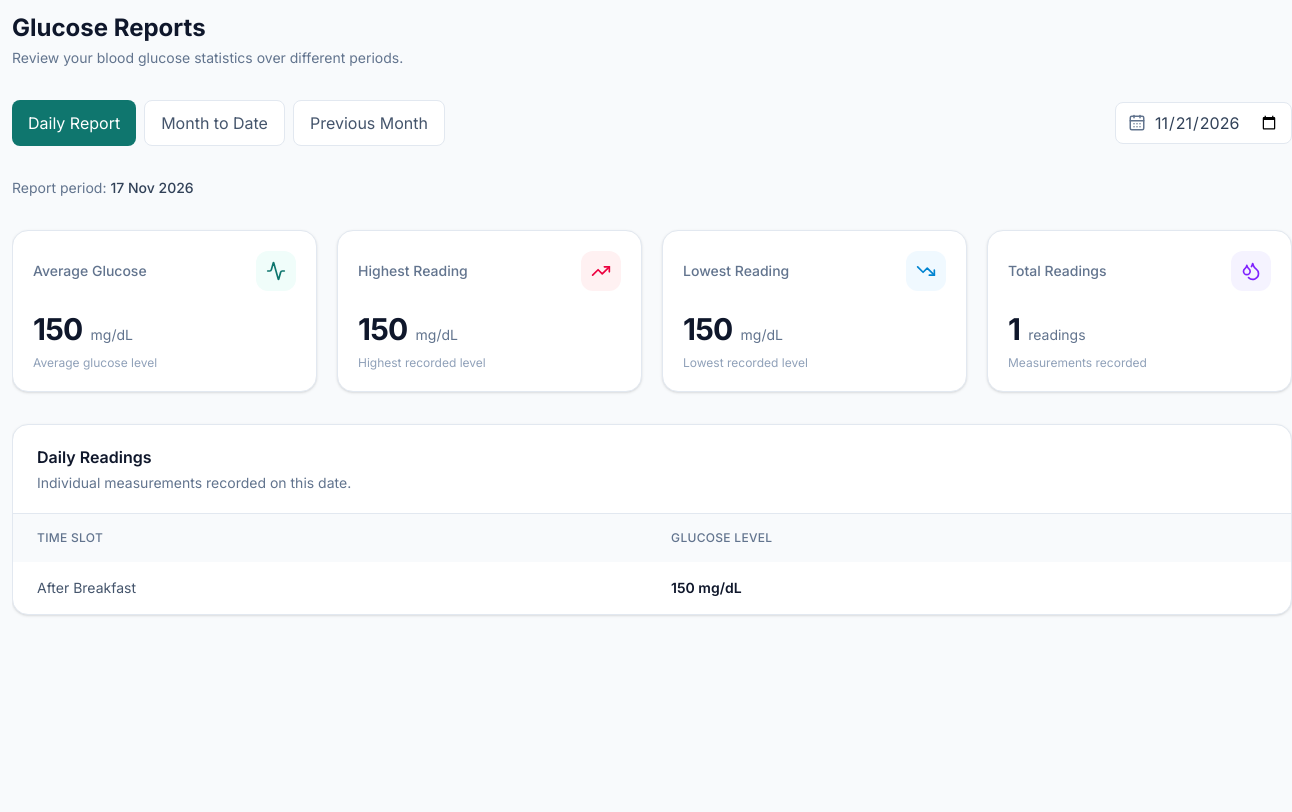
Test: ReportsPage › loads the previous-month report when selected
This screenshot has width=1292, height=812.
Expected: the heading "Daily Readings" is shown, x1=37 y1=447 x2=152 y2=467
Click the button "Previous Month".
click(369, 123)  # box x1=293 y1=100 x2=445 y2=146
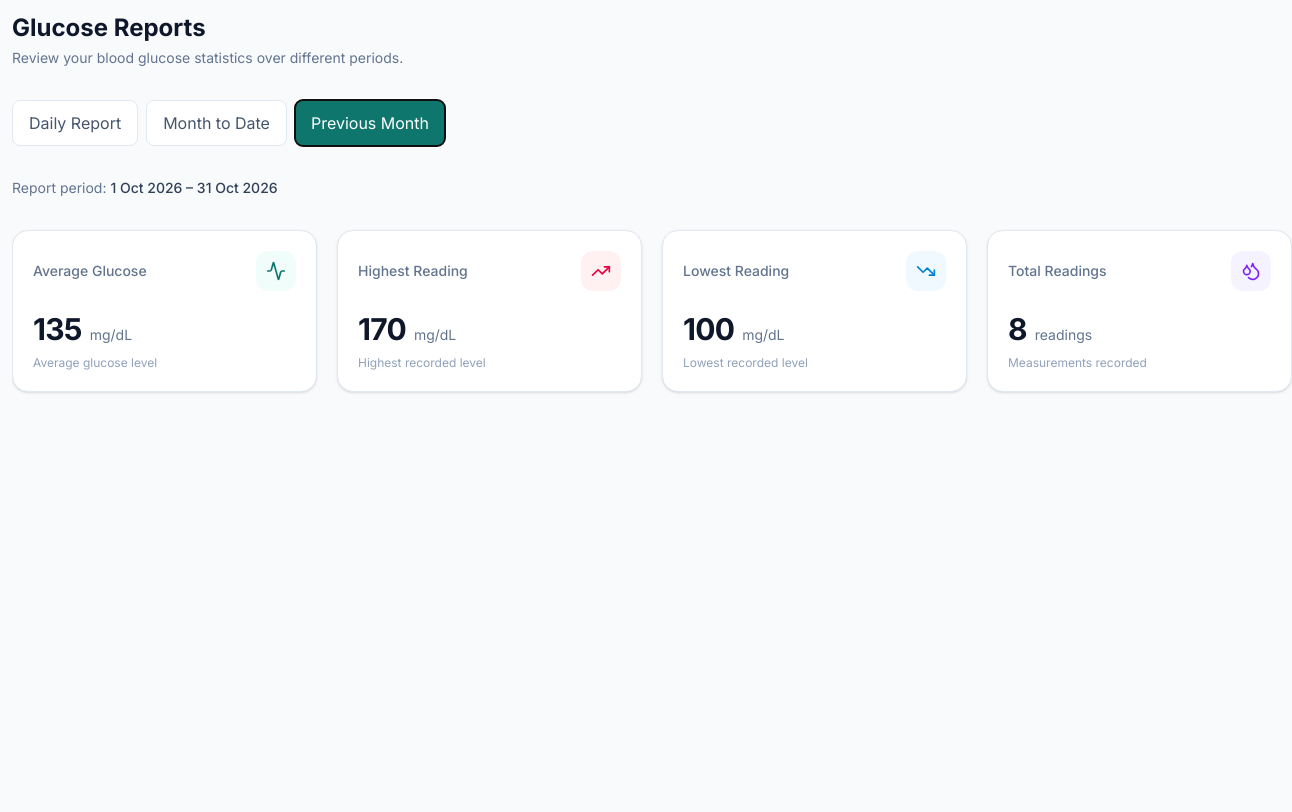
Expected: the text "135" is shown, x1=33 y1=311 x2=82 y2=347
Expected: the text "170" is shown, x1=358 y1=311 x2=406 y2=347
Expected: the text "100" is shown, x1=683 y1=311 x2=734 y2=347
